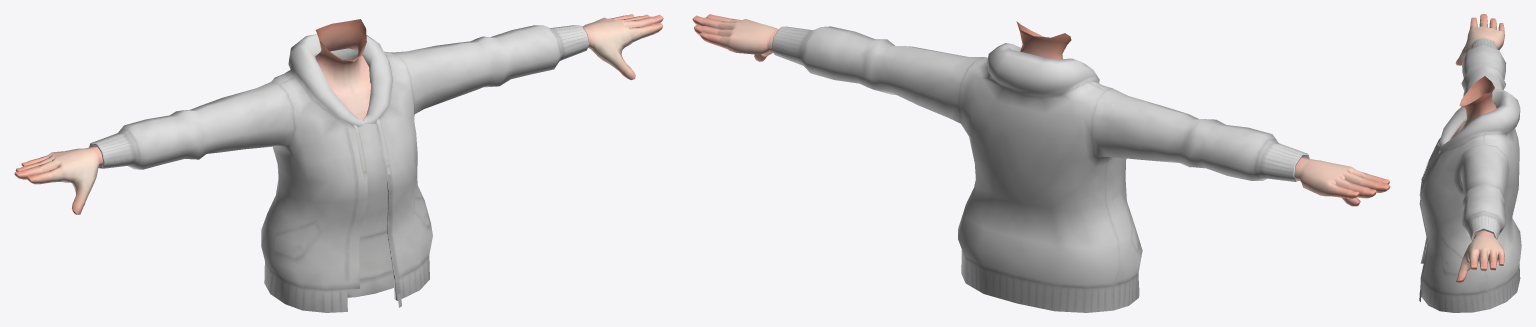
Rendered from tr0860_00_upb02.gltf.
The picture shows the model from 3 angles, left to right: view 1: azimuth 30°, elevation 25°; view 2: azimuth 150°, elevation 25°; view 3: azimuth 270°, elevation 25°; orthographic projection. The views are drawn at different scales.
Visible parts, largest first — view 1: upb02_upperbody_mesh_shape:upperbody02, upb02_upperskin_mesh_shape:upperbody02_skin; view 2: upb02_upperbody_mesh_shape:upperbody02, upb02_upperskin_mesh_shape:upperbody02_skin; view 3: upb02_upperbody_mesh_shape:upperbody02, upb02_upperskin_mesh_shape:upperbody02_skin.
Boxes of the visible parts, x1,y1,x2,y2 form: upb02_upperbody_mesh_shape:upperbody02: [89, 25, 589, 312]; upb02_upperskin_mesh_shape:upperbody02_skin: [14, 14, 663, 214]; upb02_upperbody_mesh_shape:upperbody02: [771, 26, 1309, 312]; upb02_upperskin_mesh_shape:upperbody02_skin: [692, 14, 1390, 206]; upb02_upperbody_mesh_shape:upperbody02: [1419, 37, 1521, 312]; upb02_upperskin_mesh_shape:upperbody02_skin: [1450, 14, 1504, 282].
Size of what is drawn, in the model's own units: 1.63 by 0.623 by 0.2775.
Materials: 2 (2 with a texture image).
